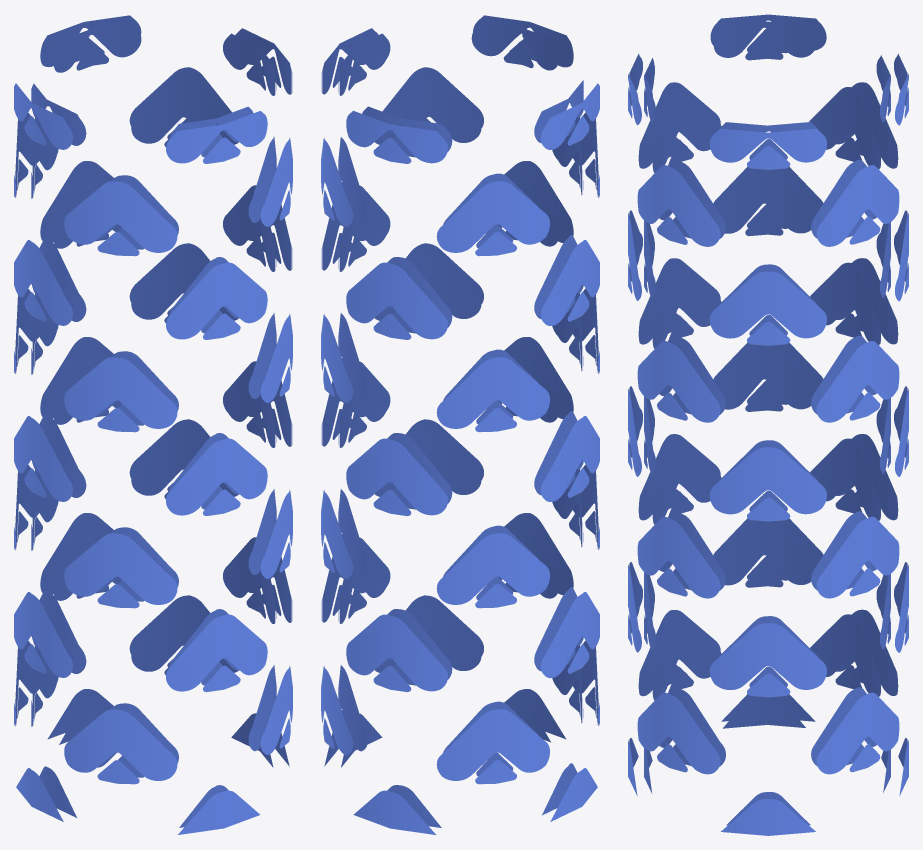
The model's file is bounce_tube.glb.
3 views of the same model, side by side, from view 1: azimuth 30°, elevation 25°; view 2: azimuth 150°, elevation 25°; view 3: azimuth 270°, elevation 25° (orthographic).
Parts seen in each view (by area): view 1: Cylinder; view 2: Cylinder; view 3: Cylinder.
Boxes of the visible parts, x1,y1,x2,y2 form: Cylinder: [14, 15, 292, 834]; Cylinder: [321, 15, 599, 834]; Cylinder: [628, 14, 908, 835].
Size of the model in its own units: 2 by 5.53 by 2.
1 material, 1 textured.
